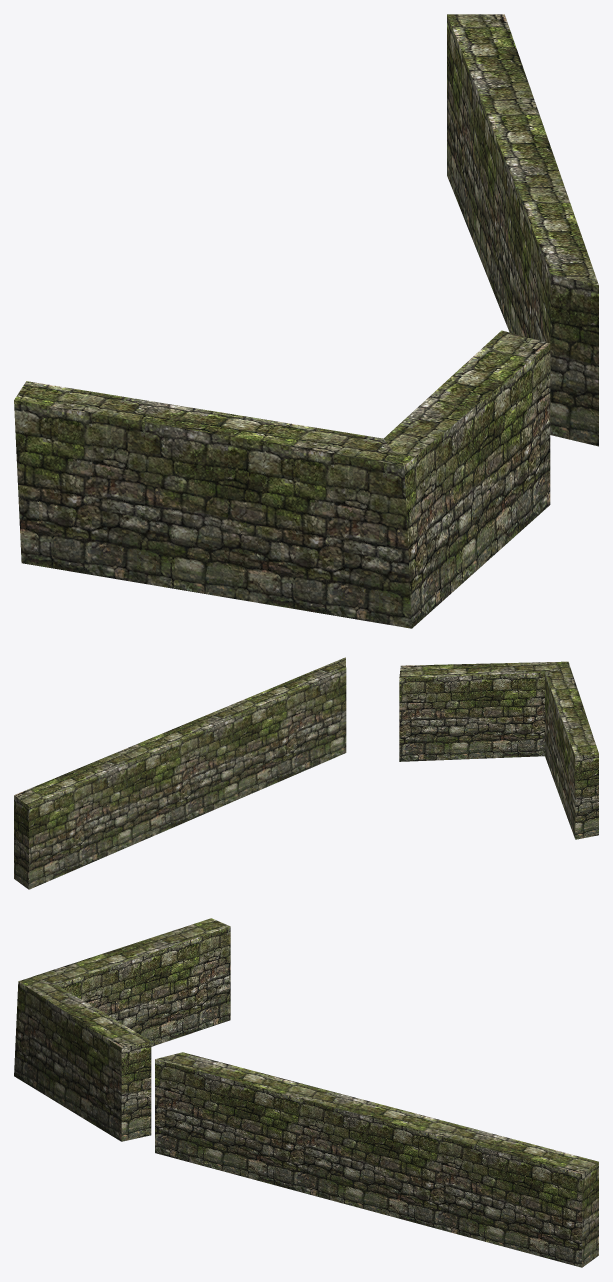
3 renders of one model, top to bottom at view 1: azimuth 30°, elevation 25°; view 2: azimuth 150°, elevation 25°; view 3: azimuth 270°, elevation 25°, orthographic. The views are drawn at different scales.
Visible parts, largest first — view 1: TN2_W01; view 2: TN2_W01; view 3: TN2_W01.
Part boxes in pixels (x1,y1,x2,y2): TN2_W01: [14, 14, 598, 628]; TN2_W01: [14, 657, 598, 889]; TN2_W01: [14, 918, 598, 1267].
Size of the model in its own units: 16.17 by 4.3 by 17.39.
2 materials, 2 textured.
